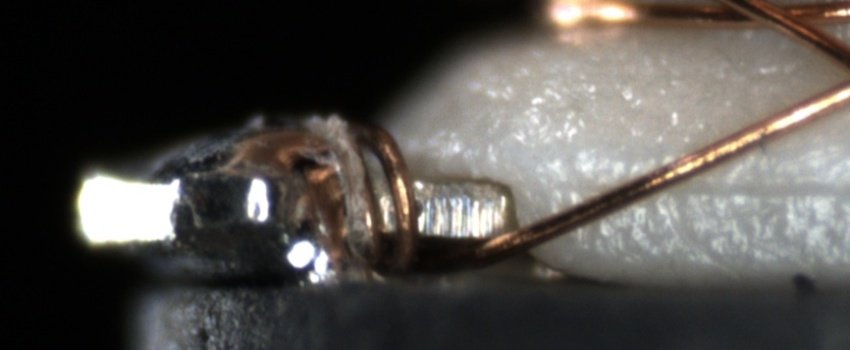DL: (602, 154, 847, 218)
TE: (353, 115, 438, 273)
